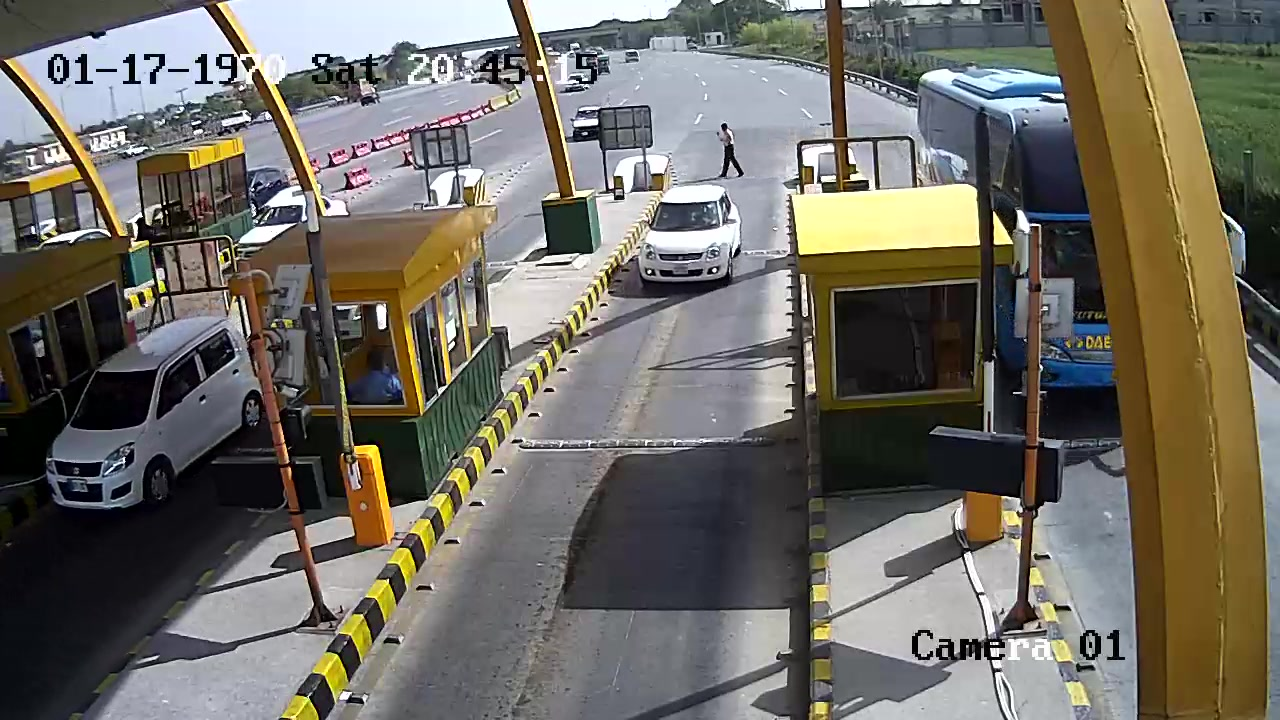F1: (638, 173, 749, 298)
